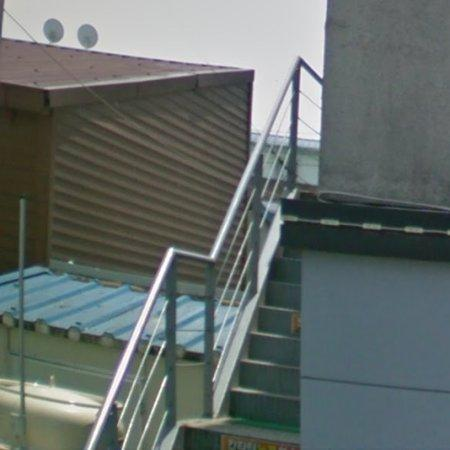stairs: (174, 247, 302, 450)
